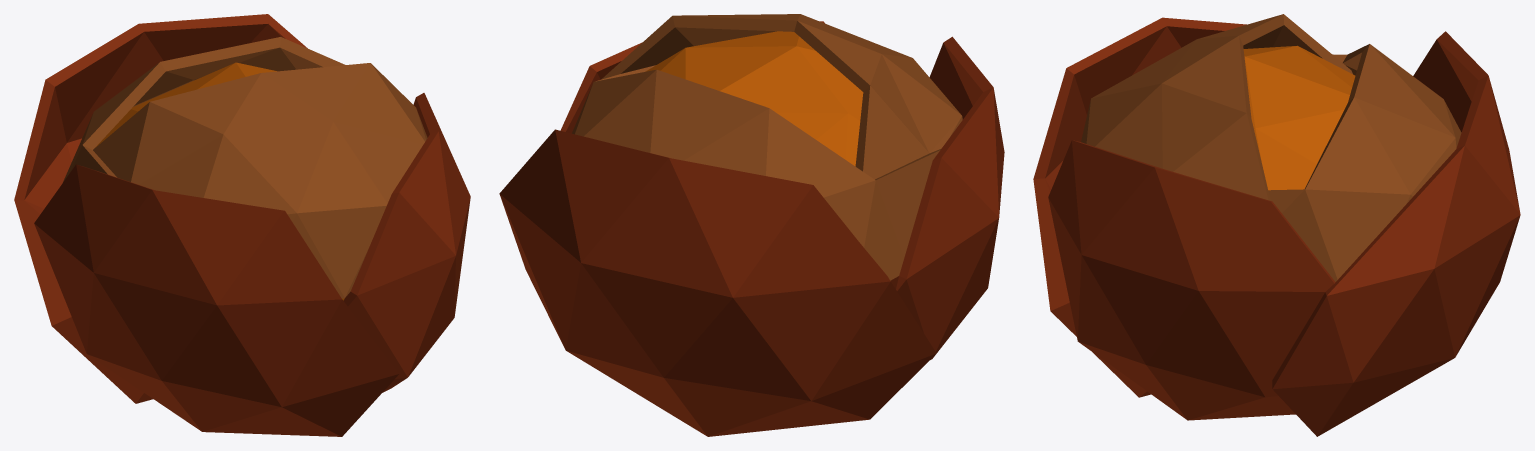
File: Cabbage_M_Died.fbx
3 views of the same model, side by side, from view 1: azimuth 30°, elevation 25°; view 2: azimuth 150°, elevation 25°; view 3: azimuth 270°, elevation 25° (orthographic). The views are drawn at different scales.
Visible parts, largest first — view 1: Cabbage M Died; view 2: Cabbage M Died; view 3: Cabbage M Died.
Part boxes in pixels (bbox=[...]): Cabbage M Died: bbox=[14, 14, 470, 436]; Cabbage M Died: bbox=[499, 14, 1004, 436]; Cabbage M Died: bbox=[1033, 14, 1520, 436].
Bounding box in the file's own units: 33.49 × 28.29 × 36.1.
